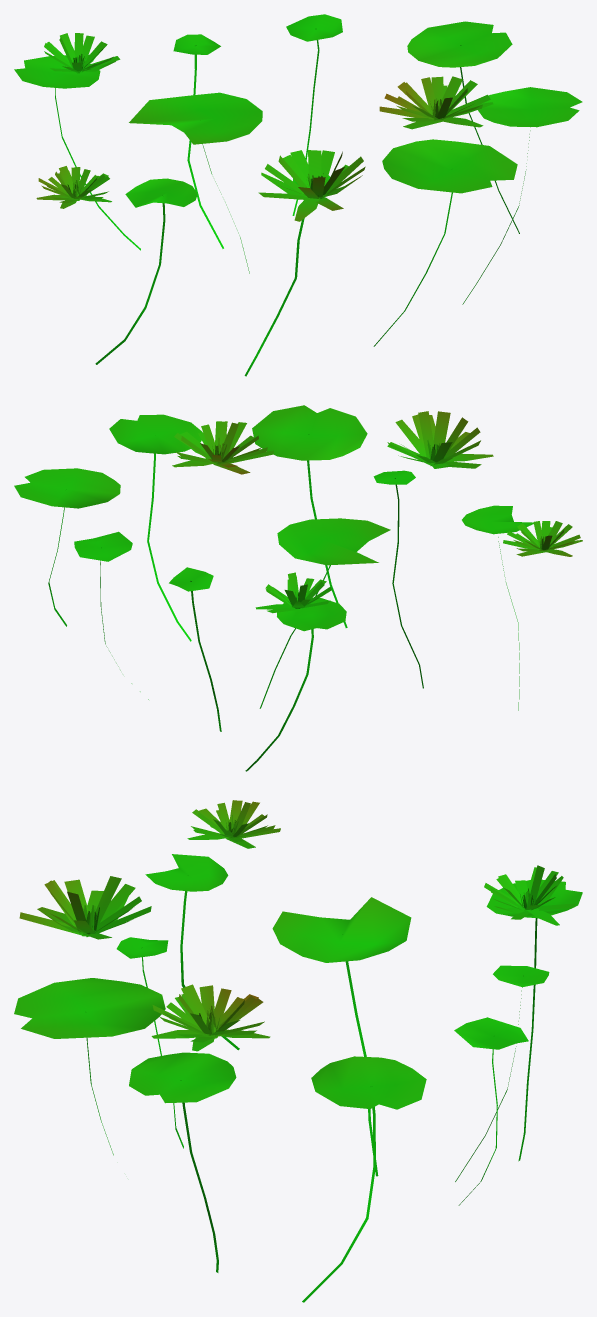
The model's file is Var7_LOD2.fbx.
3 views of the same model, one above another, from view 1: azimuth 30°, elevation 25°; view 2: azimuth 150°, elevation 25°; view 3: azimuth 270°, elevation 25° (orthographic). The views are drawn at different scales.
Visible parts, largest first — view 1: _e64b_Var7_LOD2; view 2: _e64b_Var7_LOD2; view 3: _e64b_Var7_LOD2.
Boxes of the visible parts, bbox=[...] form: _e64b_Var7_LOD2: bbox=[14, 14, 582, 376]; _e64b_Var7_LOD2: bbox=[14, 405, 582, 771]; _e64b_Var7_LOD2: bbox=[14, 800, 582, 1302].
Bounding box in the file's own units: 130 × 58.28 × 106.
